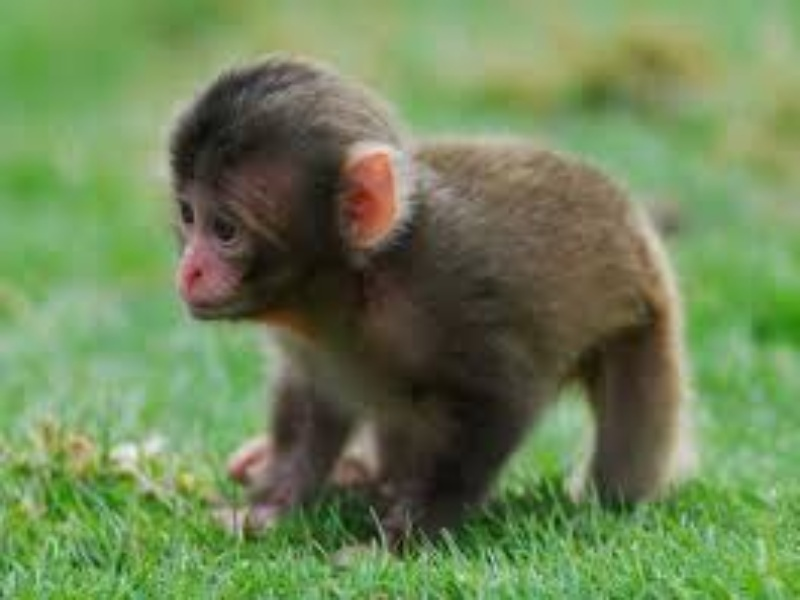monkey: (157, 34, 707, 564)
